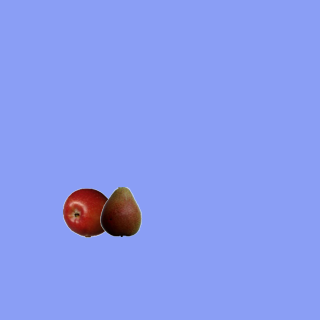Apple Braeburn: (62, 187, 112, 237)
Pear Forelle: (95, 186, 145, 236)
